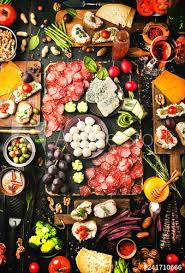Lettuce: (35, 223, 59, 251)
Onion: (65, 120, 106, 155)
Tomato: (51, 259, 74, 271), (1, 8, 13, 23)
